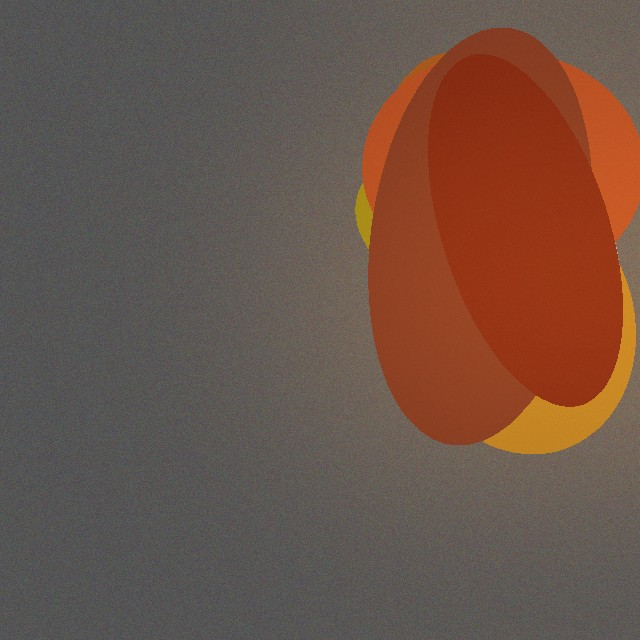fire: (422, 135, 580, 429)
